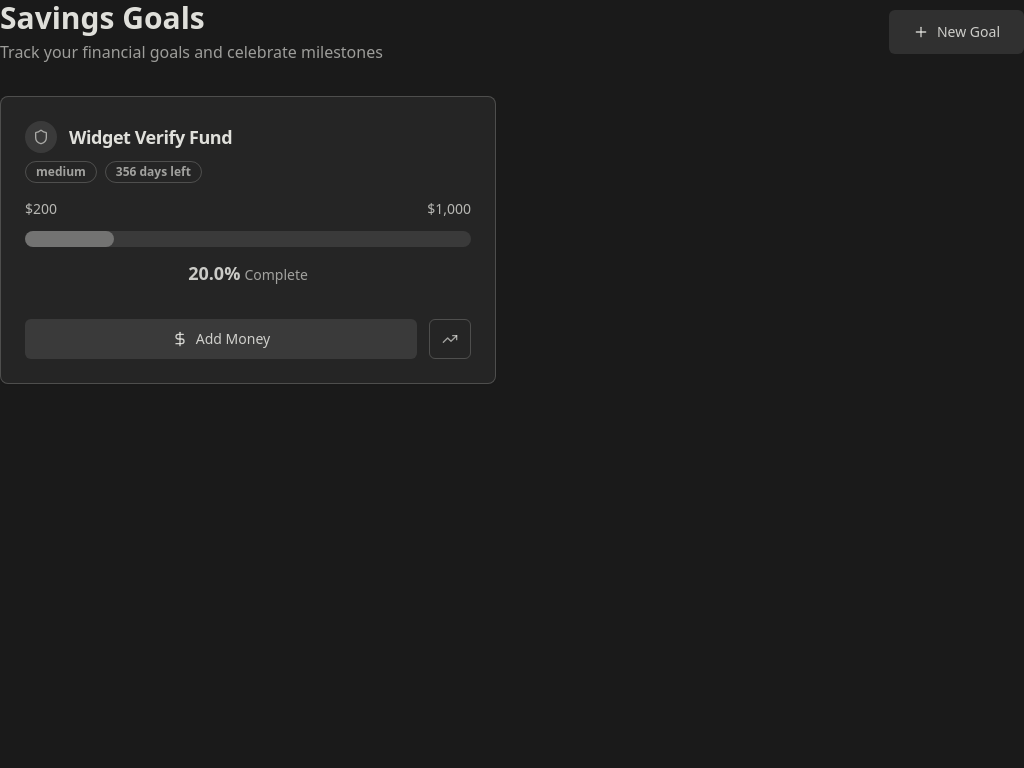
it: SavingsGoals - contribution reaches the endpoint that moves money › refreshes from the server after the write so the card shows the stored balance
The image size is (1024, 768).
Click the button "Add Money" at (221, 339), box x1=25 y1=319 x2=417 y2=359
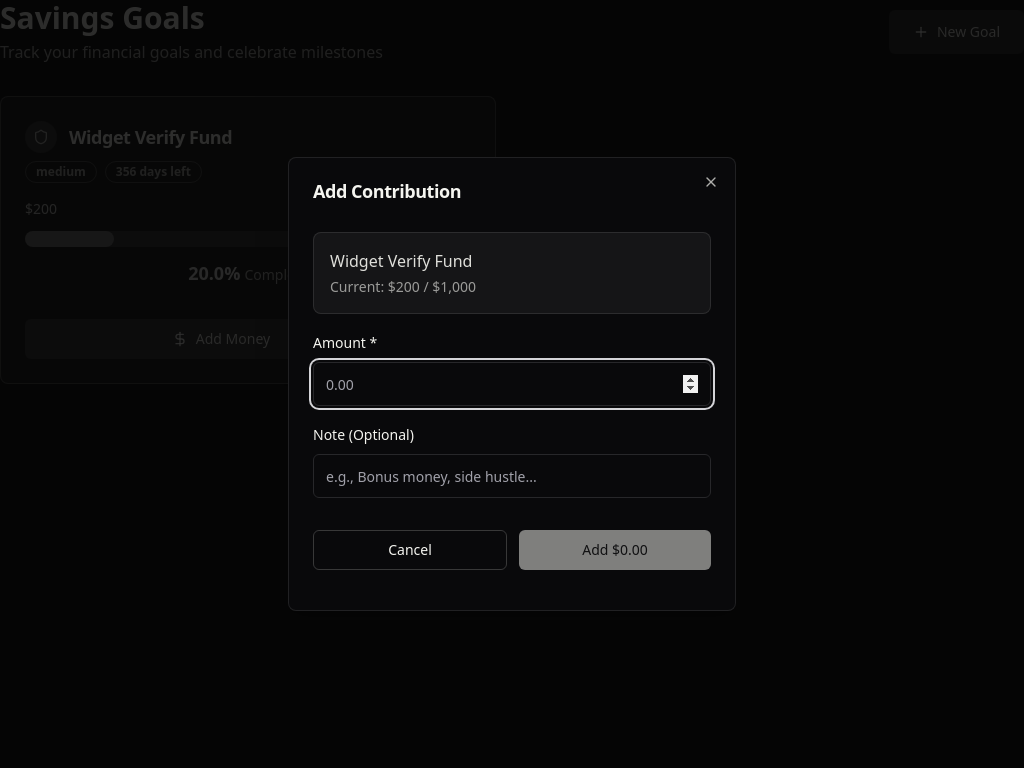
Type "100" into the number field labelled "Amount *" at (512, 384), box x1=313 y1=362 x2=711 y2=406
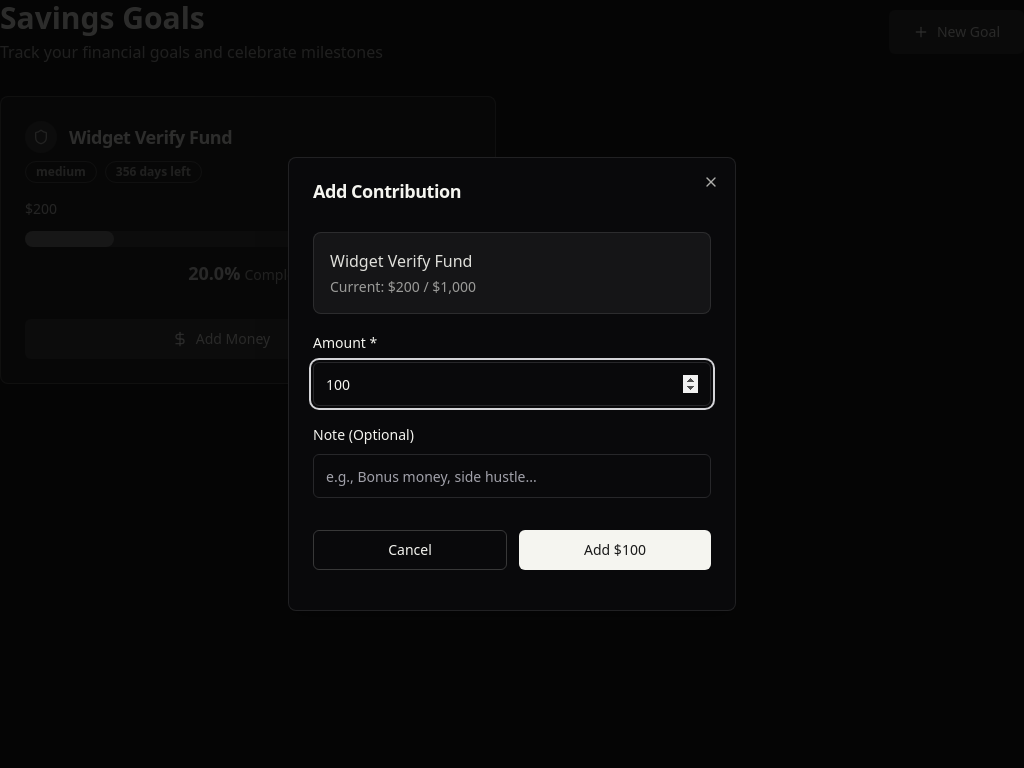
Click the button "Add $100" at (615, 550), box x1=519 y1=530 x2=711 y2=570
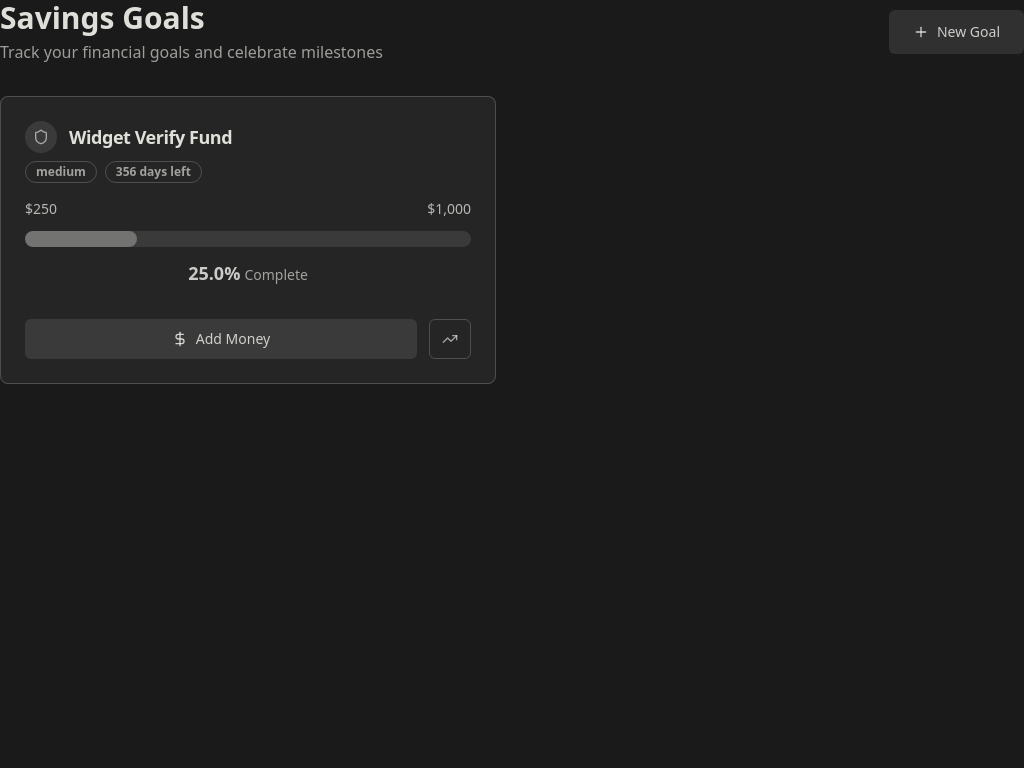
Result: the text "$250" is shown at x1=25 y1=199 x2=57 y2=219
